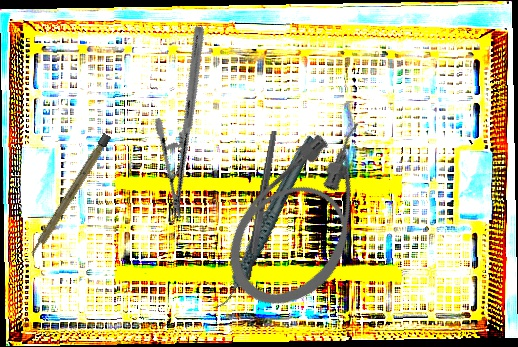Cannula: (204, 100, 415, 330)
Handpiece: (181, 134, 348, 314)
Needle Holder: (109, 24, 267, 221)
Scalpel Handle: (28, 132, 112, 259), (243, 130, 280, 281)
